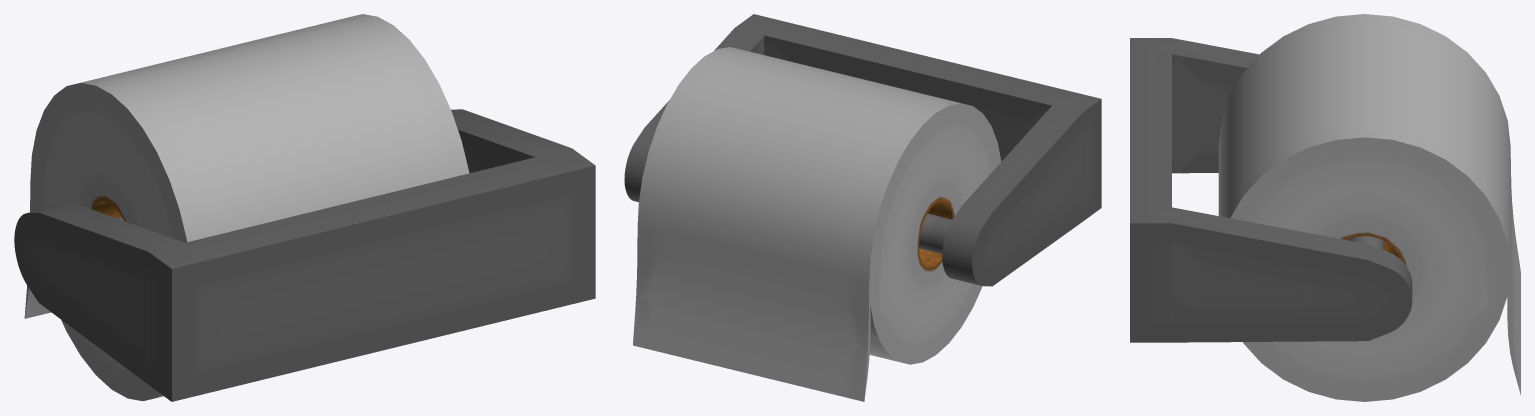
Rendered from ToiletPaper.fbx.
The picture shows the model from 3 angles, left to right: view 1: azimuth 30°, elevation 25°; view 2: azimuth 150°, elevation 25°; view 3: azimuth 270°, elevation 25°; orthographic projection. The views are drawn at different scales.
Parts seen in each view (by area): view 1: ToiletRollHolder, ToiletPaper; view 2: ToiletPaper, ToiletRollHolder; view 3: ToiletPaper, ToiletRollHolder.
Boxes of the visible parts, box(x1,y1,x2,y2) form: ToiletRollHolder: box(14, 109, 595, 401); ToiletPaper: box(24, 14, 469, 401); ToiletPaper: box(633, 47, 1001, 401); ToiletRollHolder: box(624, 14, 1101, 286); ToiletPaper: box(1218, 14, 1520, 401); ToiletRollHolder: box(1130, 38, 1412, 342).
Bounding box in the file's own units: 0.2 × 0.1783 × 0.1332.
